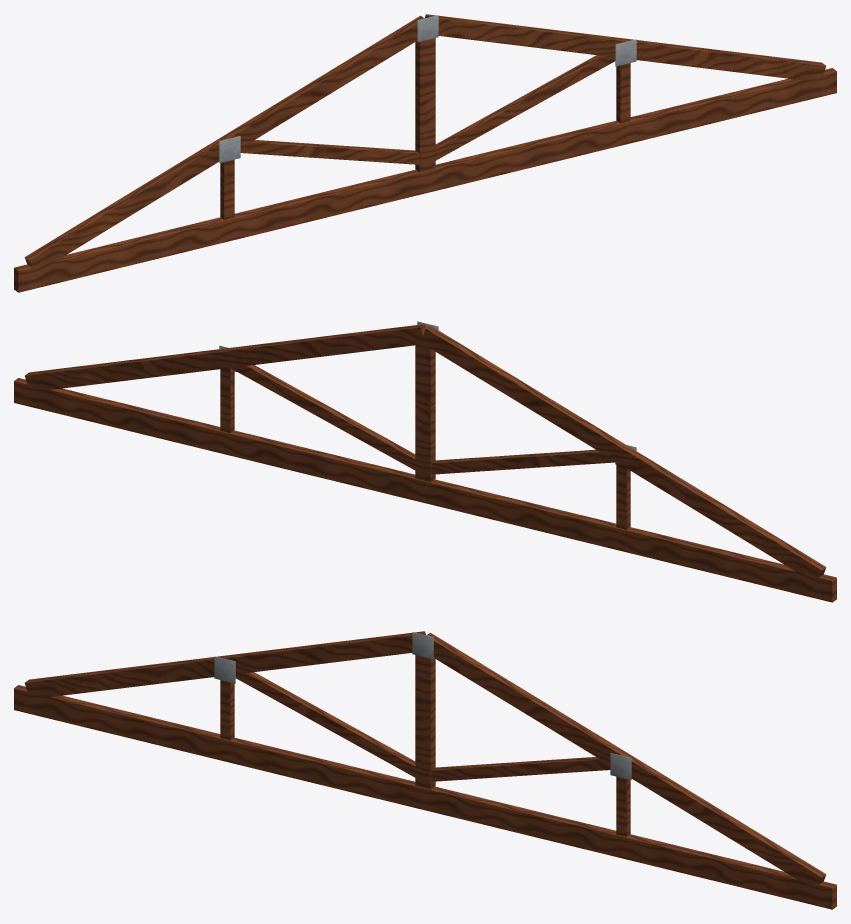
The model's file is COB-MAD-004_lod1.glb.
3 renders of one model, top to bottom at view 1: azimuth 30°, elevation 25°; view 2: azimuth 150°, elevation 25°; view 3: azimuth 330°, elevation 25°, orthographic.
Visible parts, largest first — view 1: COB-MAD-004_linha, COB-MAD-004_perna_e, COB-MAD-004_perna_d, COB-MAD-004_escora1, COB-MAD-004_pendural, COB-MAD-004_escora-1, COB-MAD-004_asna-1, COB-MAD-004_asna1; view 2: COB-MAD-004_linha, COB-MAD-004_perna_e, COB-MAD-004_perna_d, COB-MAD-004_escora1, COB-MAD-004_pendural, COB-MAD-004_escora-1, COB-MAD-004_asna1, COB-MAD-004_asna-1; view 3: COB-MAD-004_linha, COB-MAD-004_perna_d, COB-MAD-004_perna_e, COB-MAD-004_escora-1, COB-MAD-004_pendural, COB-MAD-004_escora1, COB-MAD-004_asna1, COB-MAD-004_asna-1.
Boxes of the visible parts, left/top/right/bottom form: COB-MAD-004_linha: left=14, top=68, right=836, bottom=292; COB-MAD-004_perna_e: left=24, top=15, right=424, bottom=267; COB-MAD-004_perna_d: left=425, top=14, right=826, bottom=79; COB-MAD-004_escora1: left=435, top=55, right=615, bottom=160; COB-MAD-004_pendural: left=415, top=38, right=435, bottom=172; COB-MAD-004_escora-1: left=240, top=140, right=419, bottom=164; COB-MAD-004_asna-1: left=220, top=159, right=234, bottom=219; COB-MAD-004_asna1: left=616, top=63, right=630, bottom=123; COB-MAD-004_linha: left=14, top=378, right=836, bottom=602; COB-MAD-004_perna_e: left=423, top=325, right=826, bottom=583; COB-MAD-004_perna_d: left=25, top=324, right=425, bottom=392; COB-MAD-004_escora1: left=231, top=365, right=415, bottom=470; COB-MAD-004_pendural: left=415, top=340, right=435, bottom=482; COB-MAD-004_escora-1: left=431, top=449, right=615, bottom=474; COB-MAD-004_asna1: left=220, top=368, right=234, bottom=433; COB-MAD-004_asna-1: left=616, top=462, right=630, bottom=529; COB-MAD-004_linha: left=14, top=685, right=836, bottom=909; COB-MAD-004_perna_d: left=426, top=632, right=826, bottom=884; COB-MAD-004_perna_e: left=24, top=631, right=425, bottom=696; COB-MAD-004_escora-1: left=235, top=672, right=415, bottom=777; COB-MAD-004_pendural: left=415, top=655, right=435, bottom=789; COB-MAD-004_escora1: left=431, top=757, right=610, bottom=781; COB-MAD-004_asna1: left=616, top=776, right=630, bottom=836; COB-MAD-004_asna-1: left=220, top=680, right=234, bottom=740.
Bounding box in the file's own units: 6.2 × 1.27 × 0.064.
2 materials, 2 textured.
